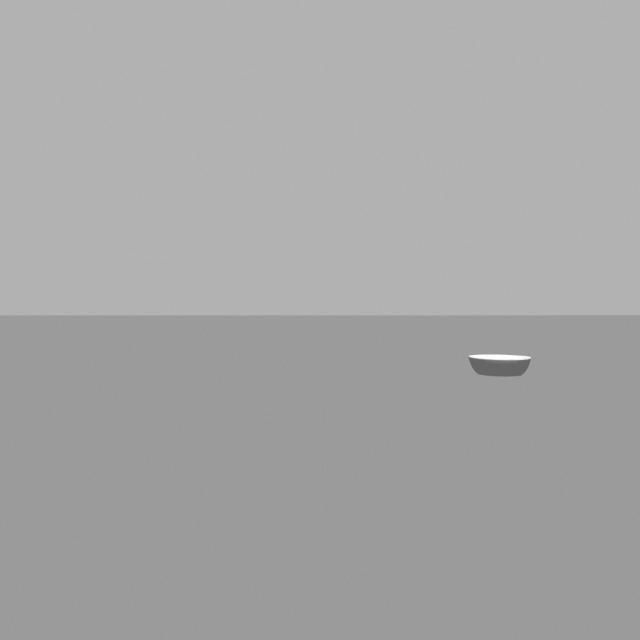bowl: (461, 330, 554, 395)
